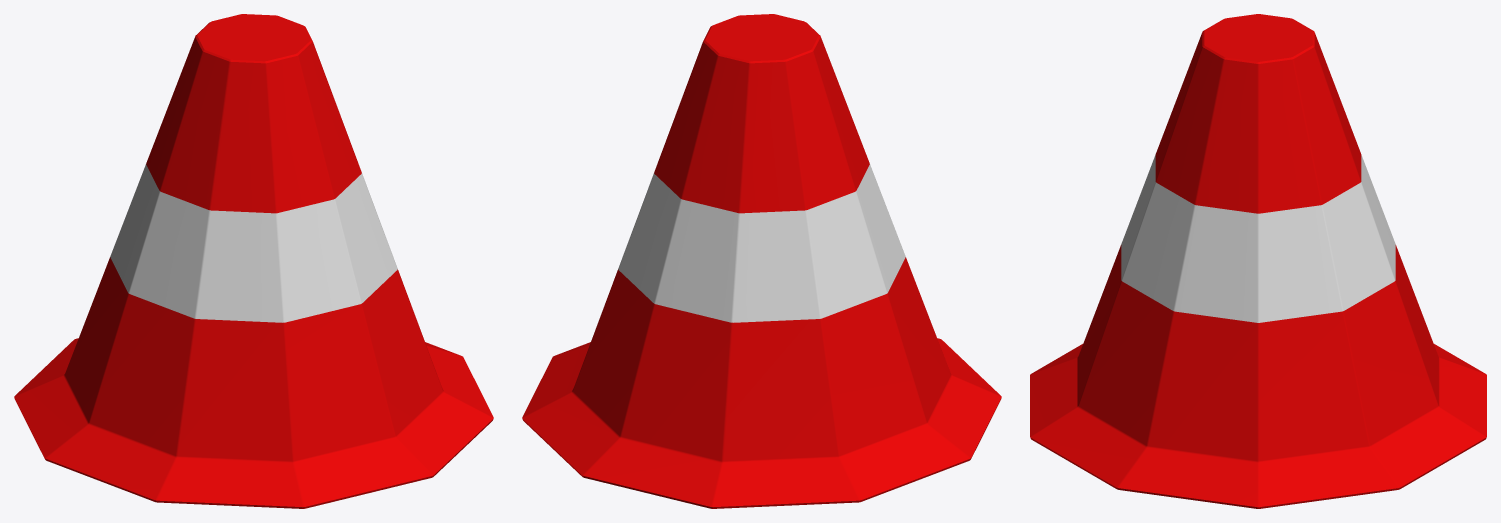
The model's file is cornet_.fbx.
3 renders of one model, left to right at view 1: azimuth 30°, elevation 25°; view 2: azimuth 150°, elevation 25°; view 3: azimuth 270°, elevation 25°, orthographic.
Visible parts, largest first — view 1: pCylinder1; view 2: pCylinder1; view 3: pCylinder1.
Part boxes in pixels (box(x1,y1,x2,y2)): pCylinder1: box(14, 14, 493, 508); pCylinder1: box(522, 14, 1001, 508); pCylinder1: box(1030, 14, 1486, 508).
Bounding box in the file's own units: 2.53 × 2.15 × 2.41.
